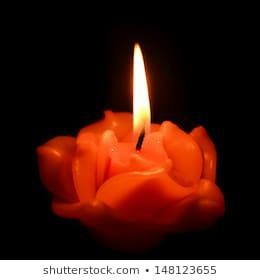fire: (130, 40, 150, 140)
